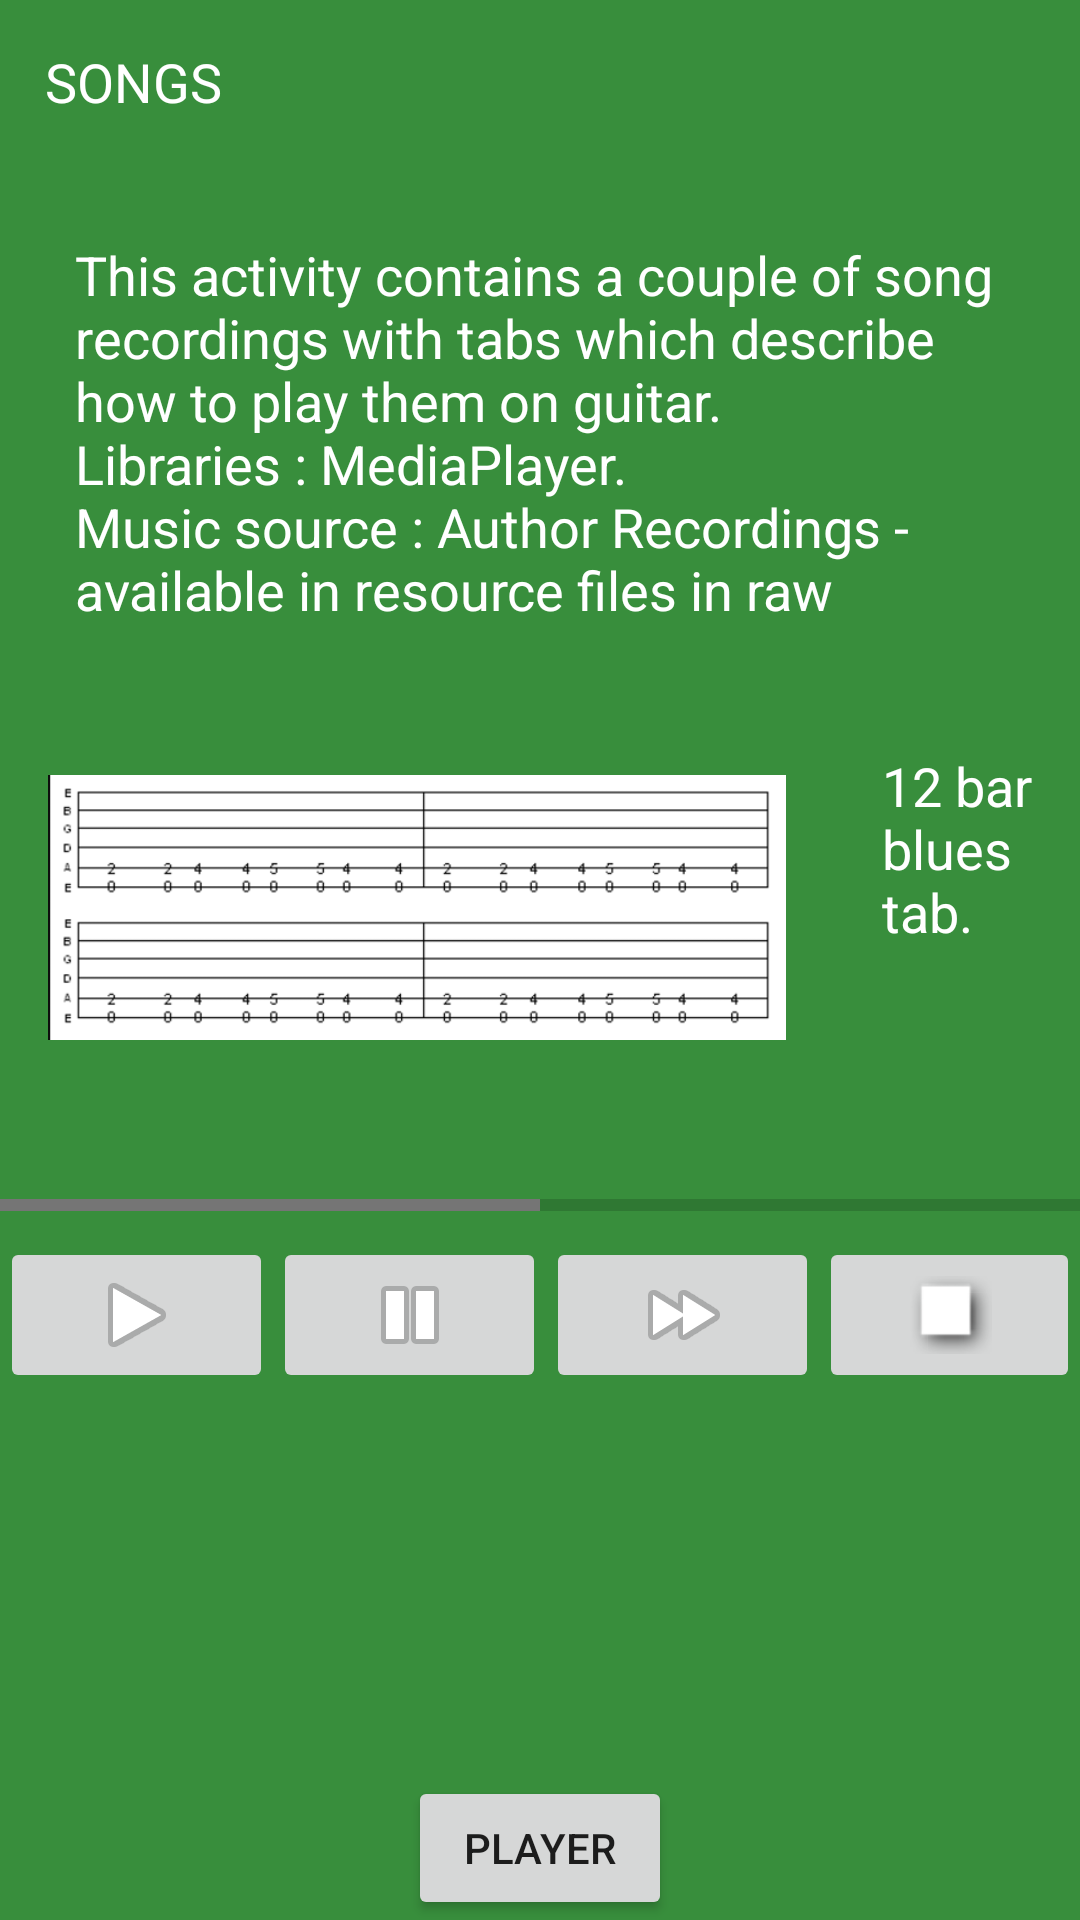

Locate icon controls on the screen. Image size 1080 × 1920, boxes as [x1=x1, y1=y1, x2=x2, y2=y2].
pause: [x1=285, y1=1255, x2=534, y2=1375]
play: [x1=12, y1=1255, x2=261, y2=1375]
